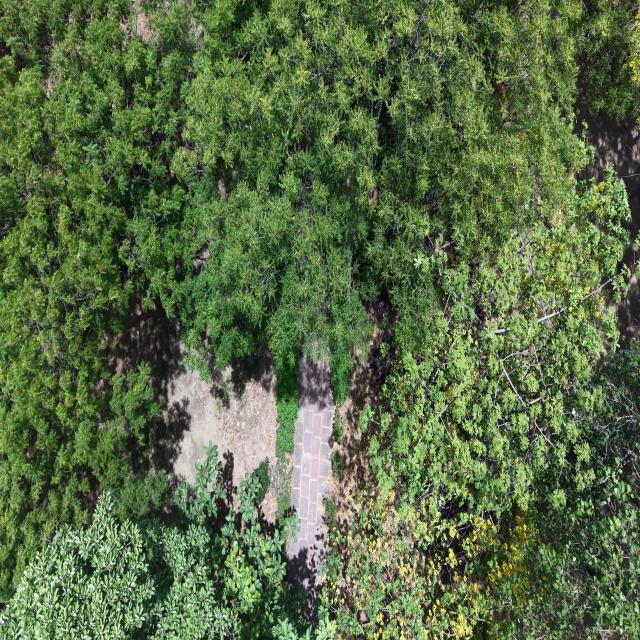DRY_AREA: (109, 298, 335, 616), (108, 296, 333, 614), (107, 295, 277, 489), (109, 294, 277, 487), (109, 299, 277, 485), (331, 290, 396, 530), (576, 93, 639, 335), (332, 290, 396, 525), (577, 95, 639, 335), (333, 290, 395, 521), (168, 355, 277, 486), (169, 362, 276, 484), (288, 355, 334, 617), (288, 356, 334, 617), (170, 370, 275, 484), (289, 356, 335, 616), (289, 356, 334, 607), (290, 357, 333, 590), (577, 95, 639, 238), (291, 406, 333, 554)
PATHWAYS: (289, 356, 334, 616)
VEGETATION_TREE: (0, 0, 639, 639), (3, 1, 636, 444), (130, 2, 586, 425), (329, 165, 639, 637), (330, 177, 638, 639), (0, 2, 166, 600), (0, 446, 334, 639), (577, 0, 639, 117)
